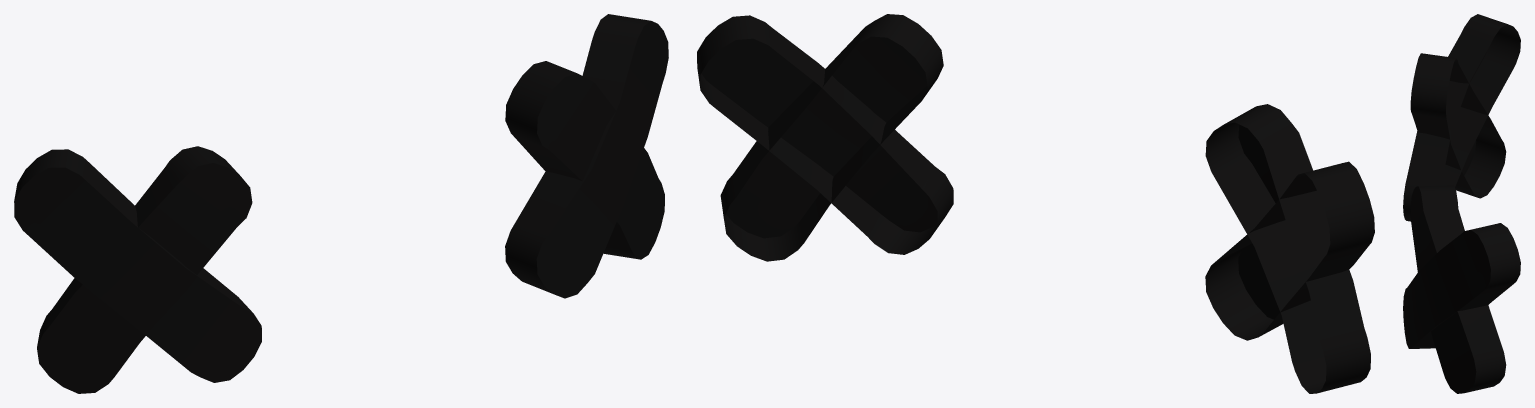
File: Eyes_D_Crossed_01.fbx
The picture shows the model from 3 angles, left to right: view 1: azimuth 30°, elevation 25°; view 2: azimuth 150°, elevation 25°; view 3: azimuth 270°, elevation 25°; orthographic projection. The views are drawn at different scales.
Parts seen in each view (by area): view 1: Eyes_D_Crossed_01; view 2: Eyes_D_Crossed_01; view 3: Eyes_D_Crossed_01.
Part boxes in pixels (box(x1,y1,x2,y2)): Eyes_D_Crossed_01: box(14, 14, 668, 393); Eyes_D_Crossed_01: box(697, 14, 1374, 393); Eyes_D_Crossed_01: box(1403, 14, 1520, 393).
Bounding box in the file's own units: 62.83 × 20.69 × 13.06.
